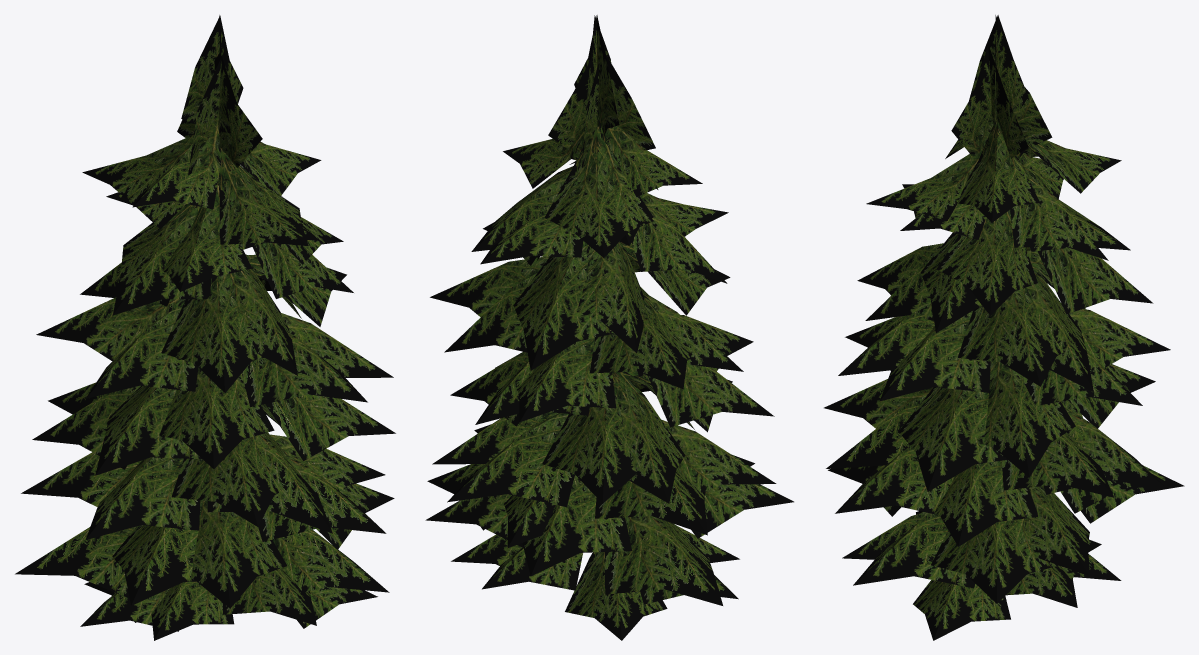
The model's file is cedar_tree_model.obj.
3 views of the same model, side by side, from view 1: azimuth 30°, elevation 25°; view 2: azimuth 150°, elevation 25°; view 3: azimuth 270°, elevation 25° (orthographic). The views are drawn at different scales.
Parts seen in each view (by area): view 1: cedar_LOD_1500_Cylinder.002; view 2: cedar_LOD_1500_Cylinder.002; view 3: cedar_LOD_1500_Cylinder.002.
Part boxes in pixels (left/top/right/bottom): cedar_LOD_1500_Cylinder.002: left=15, top=15, right=395, bottom=640; cedar_LOD_1500_Cylinder.002: left=425, top=15, right=793, bottom=640; cedar_LOD_1500_Cylinder.002: left=824, top=15, right=1184, bottom=640.
Bounding box in the file's own units: 7.45 × 12.29 × 7.04.
1 material, 1 textured.
